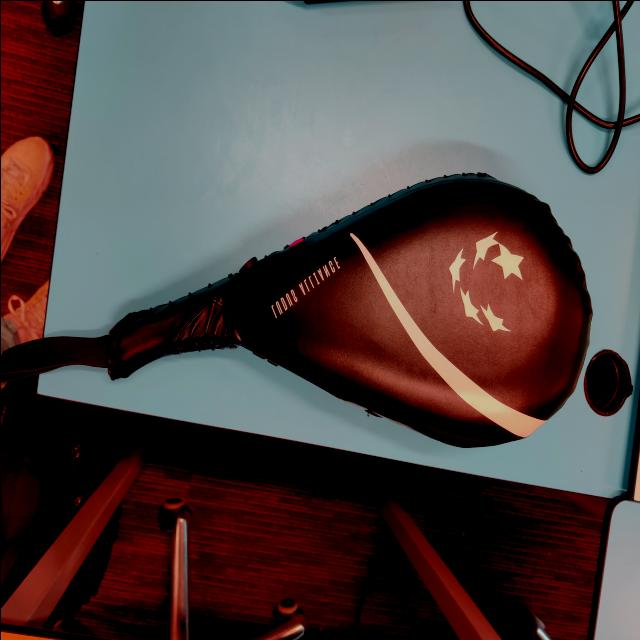paddle: (108, 162, 592, 452)
